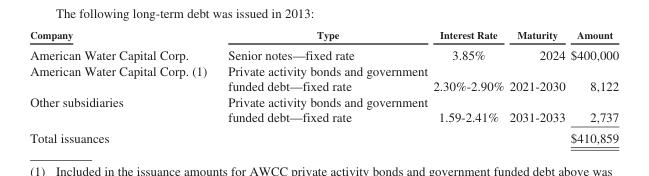table: (29, 28, 618, 144)
table column: (216, 28, 429, 144), (29, 28, 216, 144), (429, 28, 506, 144), (506, 28, 567, 144), (567, 28, 618, 144)
table column header: (29, 28, 618, 62)
table row: (29, 28, 618, 62), (29, 93, 618, 127), (29, 62, 618, 93), (29, 127, 618, 144)
